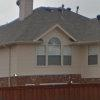Chimney: (13, 0, 40, 24)
